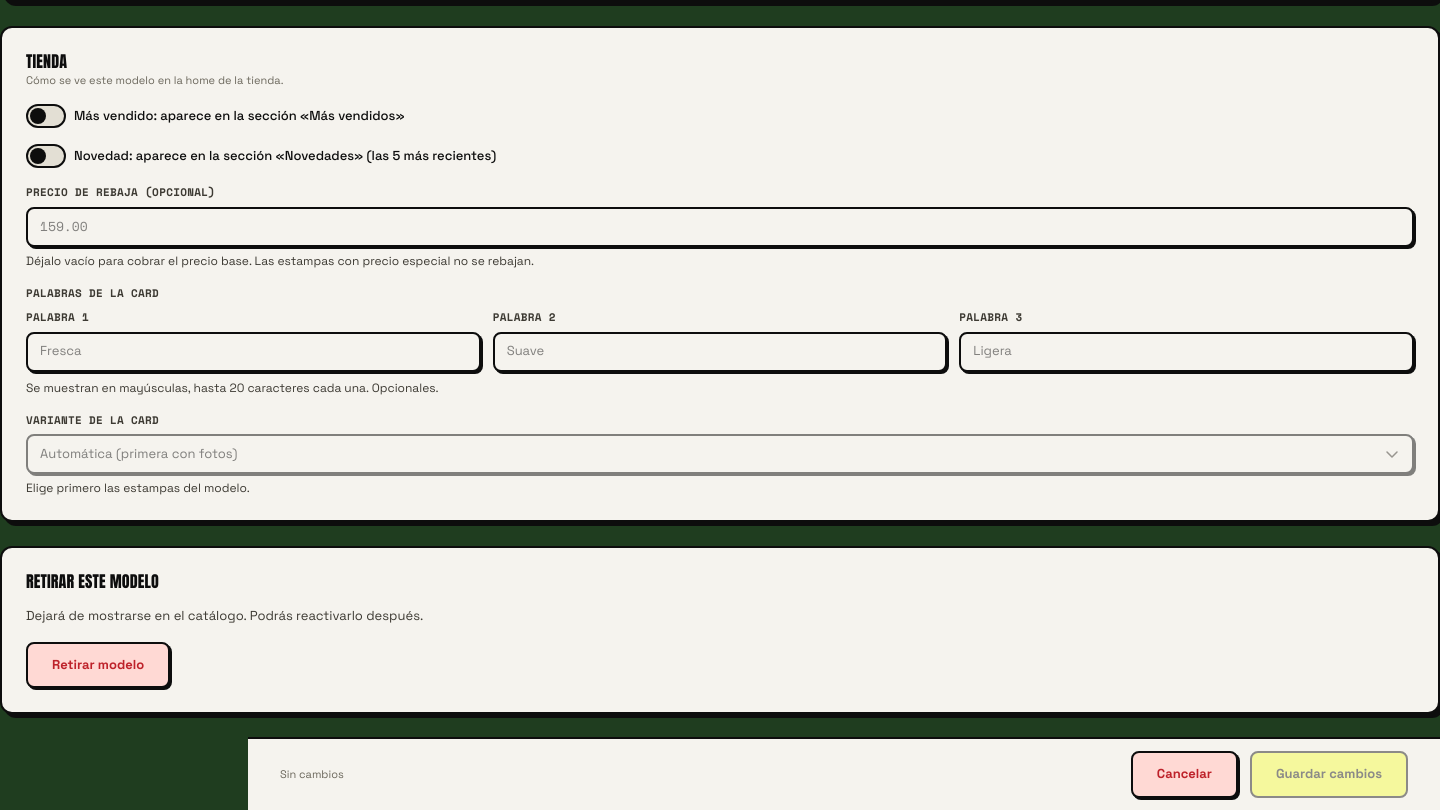
Test: ProductEditor · retirar › si el API responde 409 el diálogo muestra su mensaje y no cierra
(page scrolled)
What coordinates should you click on to do the following:
click the button "Retirar modelo"
I would click on:
 (98, 665)
Its box is [26, 642, 170, 688].
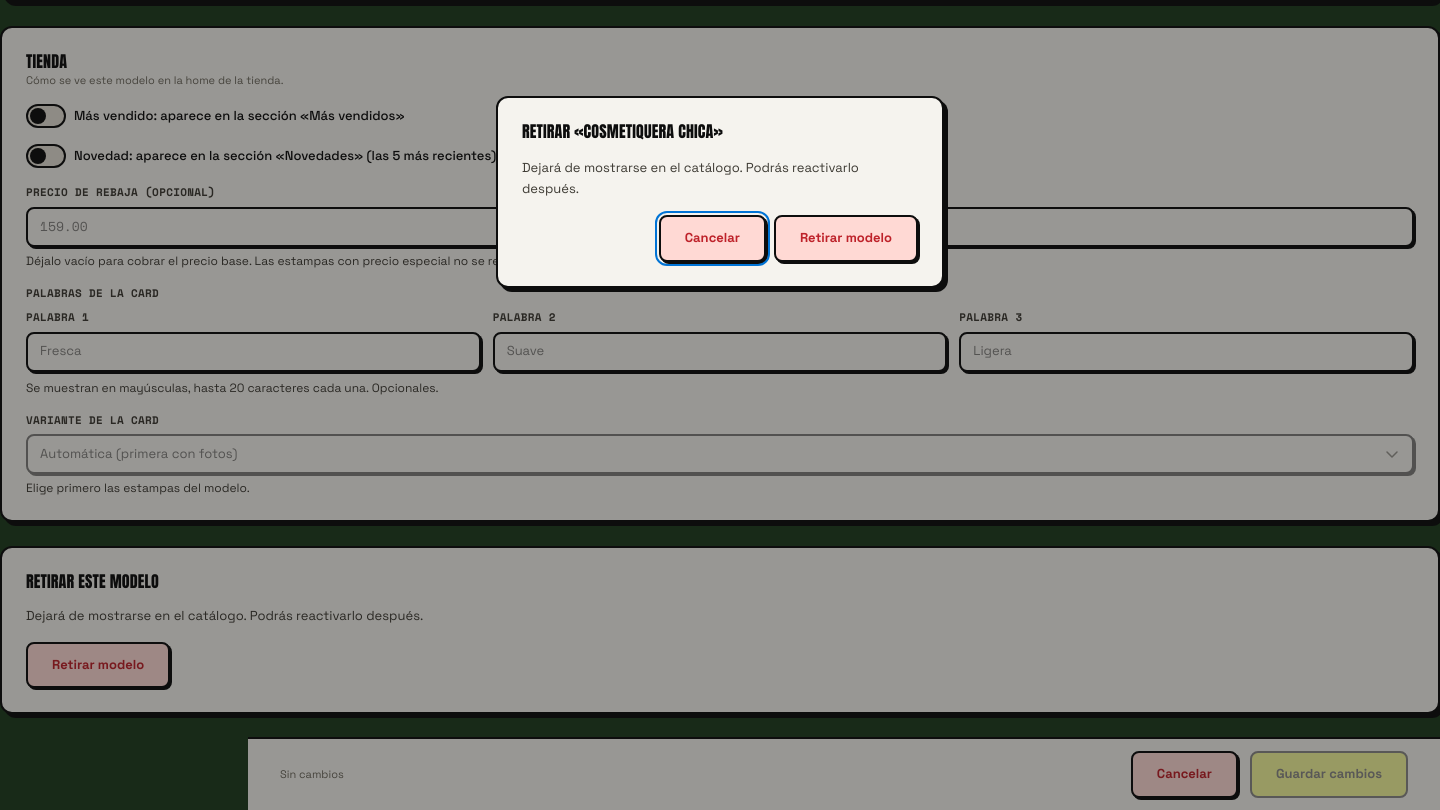
What coordinates should you click on to do the following:
click the button "Retirar modelo"
I would click on:
 (846, 239)
Its box is [774, 215, 918, 262].
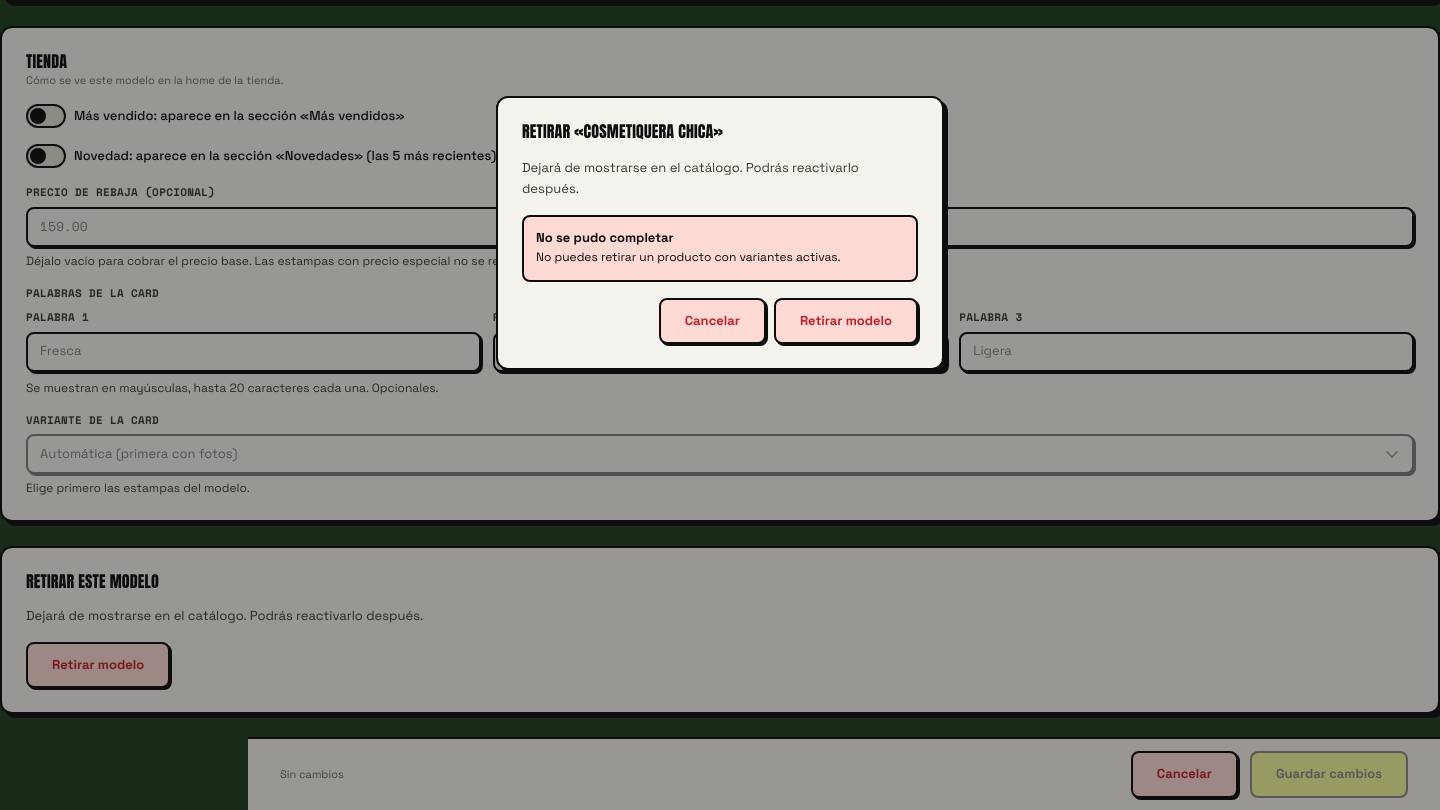
Now the text "No puedes retirar un producto con variantes activas." is shown, box [536, 249, 841, 265]
